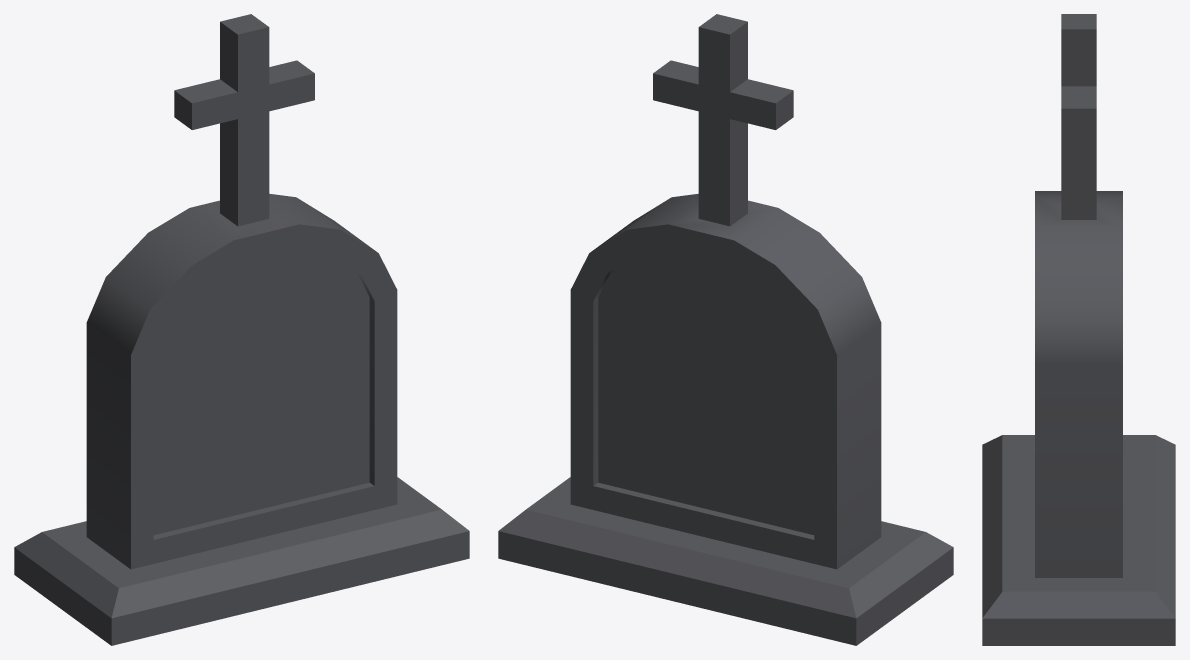
The model's file is Tombstone_2.fbx.
3 views of the same model, side by side, from view 1: azimuth 30°, elevation 25°; view 2: azimuth 150°, elevation 25°; view 3: azimuth 270°, elevation 25° (orthographic).
Visible parts, largest first — view 1: Tombstone_2; view 2: Tombstone_2; view 3: Tombstone_2.
Boxes of the visible parts, <box> form: Tombstone_2: <box>14,14,469,645</box>; Tombstone_2: <box>498,14,953,645</box>; Tombstone_2: <box>982,14,1175,645</box>.
Bounding box in the file's own units: 1.56 × 2.26 × 0.7354.
